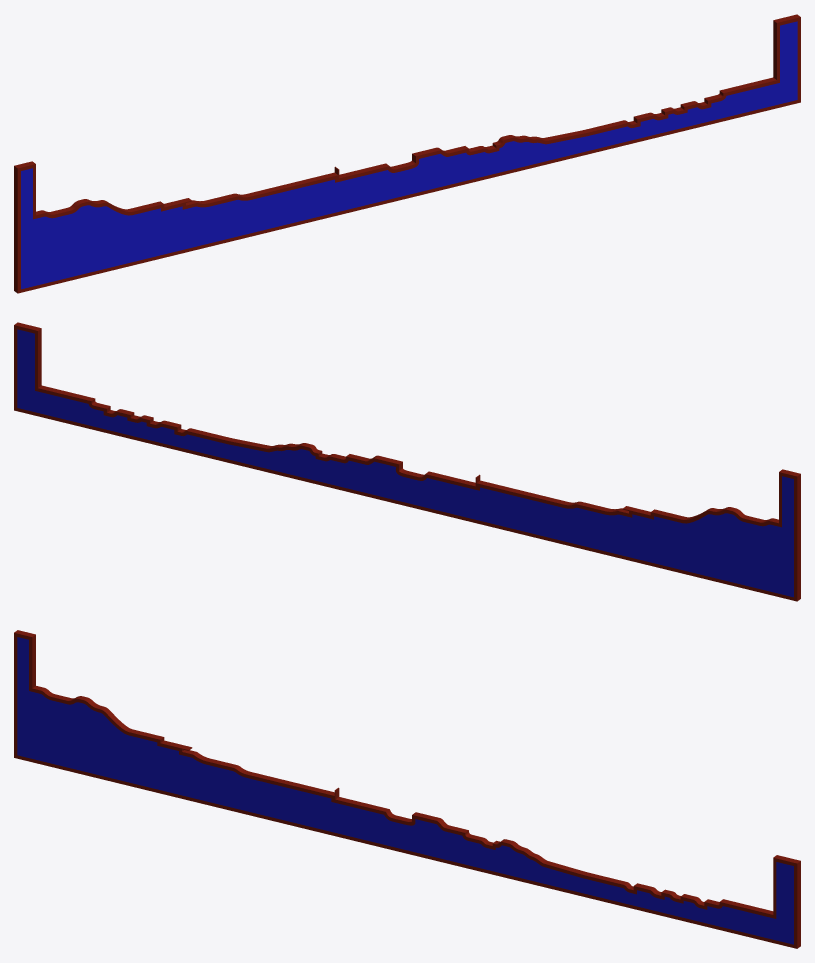
The model's file is TutorialFinalMesh.fbx.
The picture shows the model from 3 angles, top to bottom: view 1: azimuth 30°, elevation 25°; view 2: azimuth 150°, elevation 25°; view 3: azimuth 330°, elevation 25°; orthographic projection.
Visible parts, largest first — view 1: TutorialWhitebox002; view 2: TutorialWhitebox002; view 3: TutorialWhitebox002.
Boxes of the visible parts, bbox=[...] form: TutorialWhitebox002: bbox=[14, 14, 800, 293]; TutorialWhitebox002: bbox=[14, 322, 800, 601]; TutorialWhitebox002: bbox=[14, 630, 800, 948].
Bounding box in the file's own units: 25720 × 3925 × 213.
